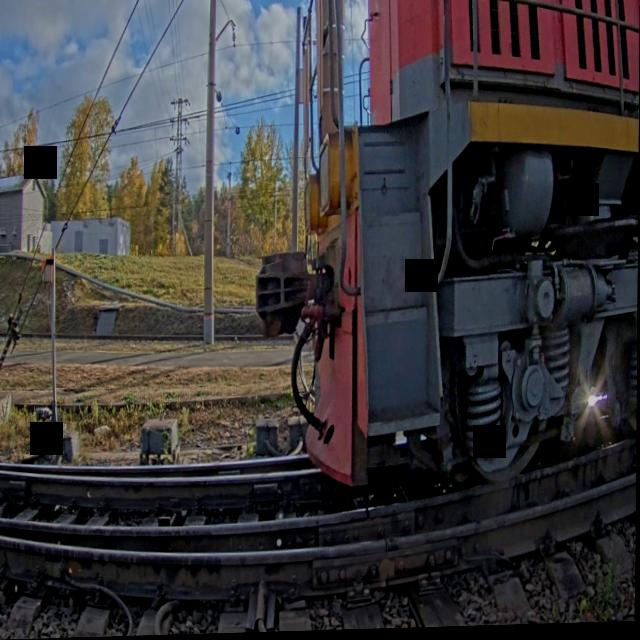locomotive: (248, 0, 640, 538)
